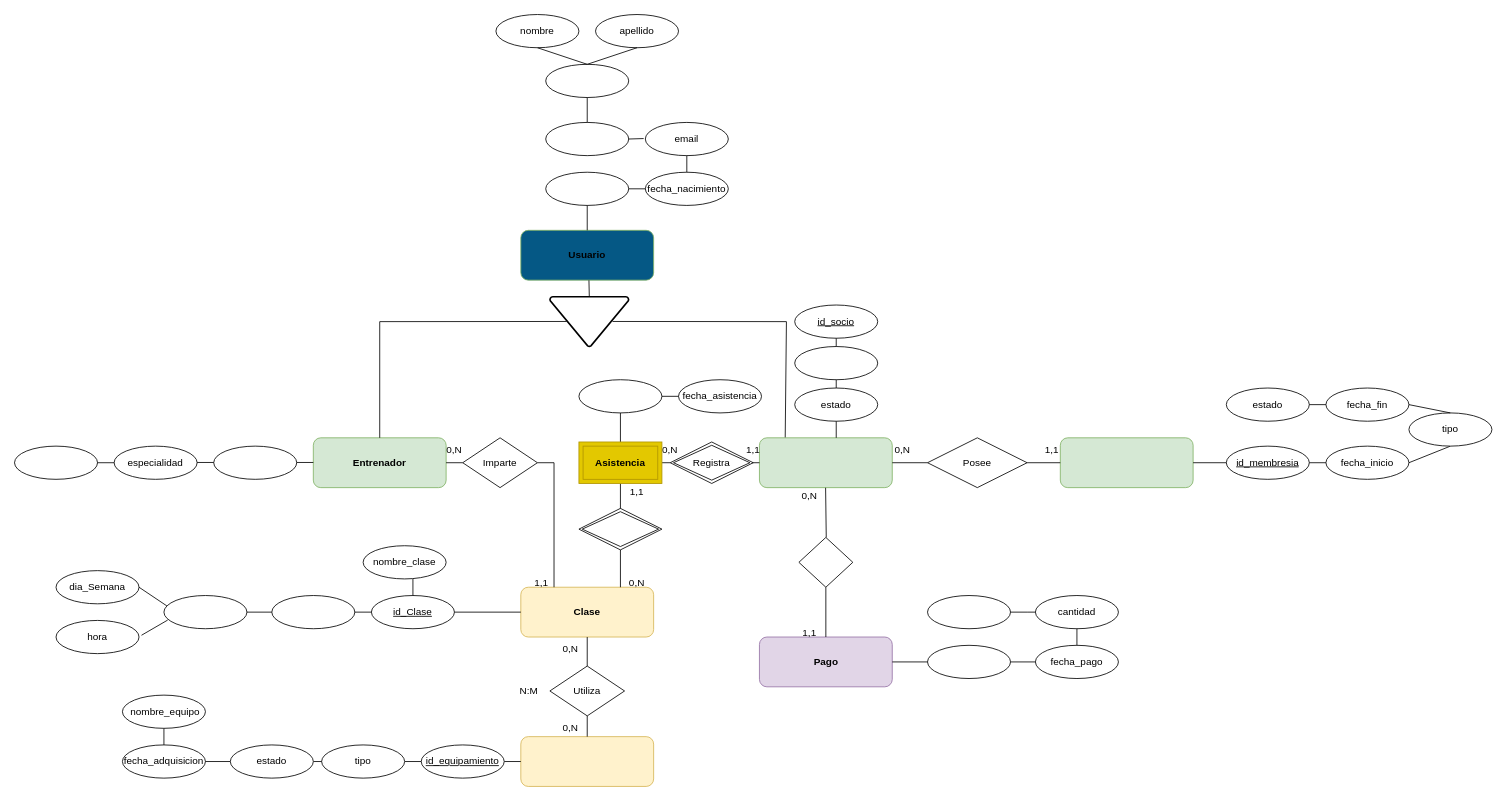
This 1506x801 diagram has some shape labels left out. The centre of each missing label's shape, as x and y in pixels:
certificado: (x=56, y=462)
Corresponde: (x=620, y=529)
cupo_maximo: (x=313, y=612)
Equipamiento: (x=587, y=761)
fecha: (x=205, y=612)
fecha_registro: (x=836, y=363)
id_asistencia: (x=620, y=396)
id_entrenador: (x=255, y=462)
id_pago: (x=969, y=612)
id_usuario: (x=587, y=188)
Membresia: (x=1126, y=462)
metodo_pago: (x=969, y=661)
nombre_completo: (x=587, y=80)
Realiza: (x=825, y=562)
Socio: (x=825, y=462)
Superpuesta parcial: (x=589, y=321)
teléfono: (x=587, y=139)
